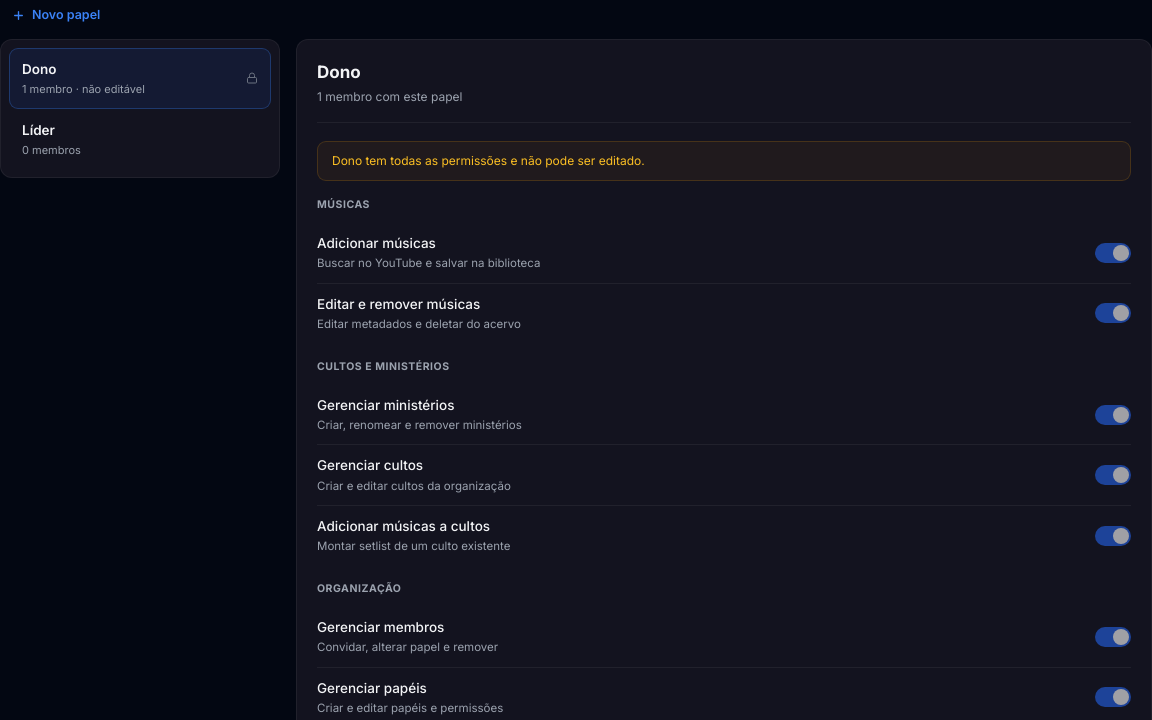
it: OrgRoles › erro no delete exibe mensagem inline
Click the text "Líder": (38, 130) x1=22 y1=122 x2=55 y2=138
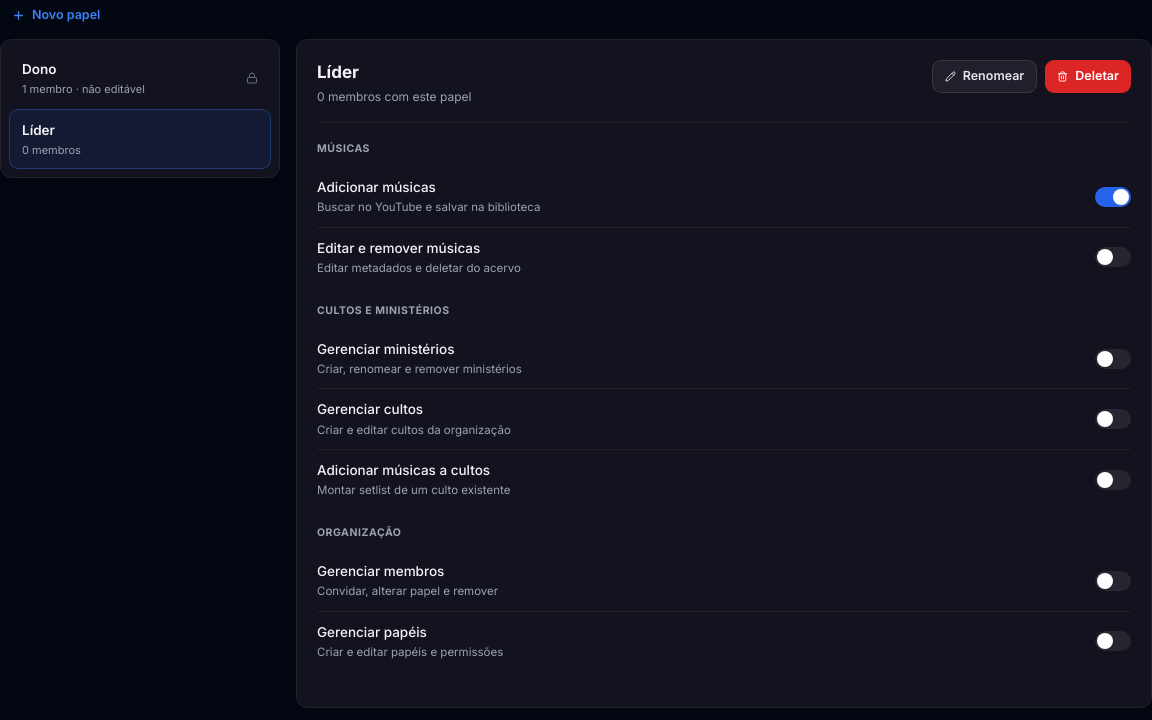
Expected: the button "Deletar" is shown
Click the button "Deletar": (1088, 76) x1=1045 y1=60 x2=1131 y2=93
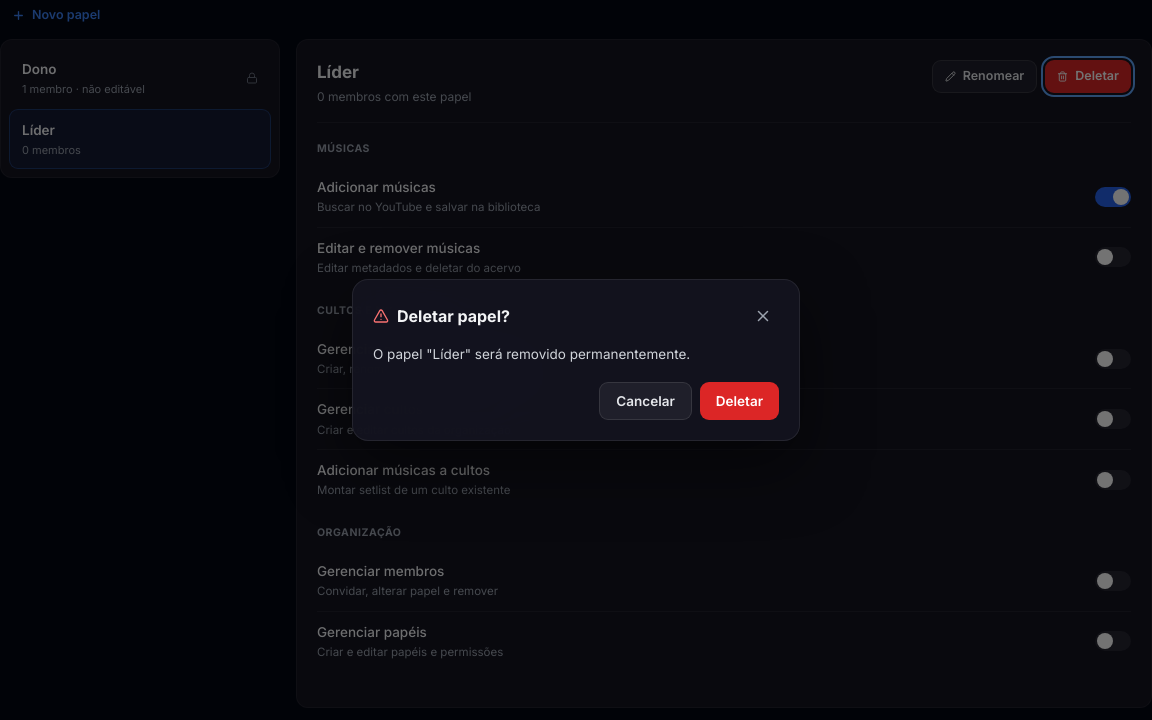
Expected: the heading "Deletar papel?" is shown, x1=373 y1=304 x2=510 y2=328
Click the button "Deletar": (739, 401) x1=700 y1=382 x2=779 y2=420
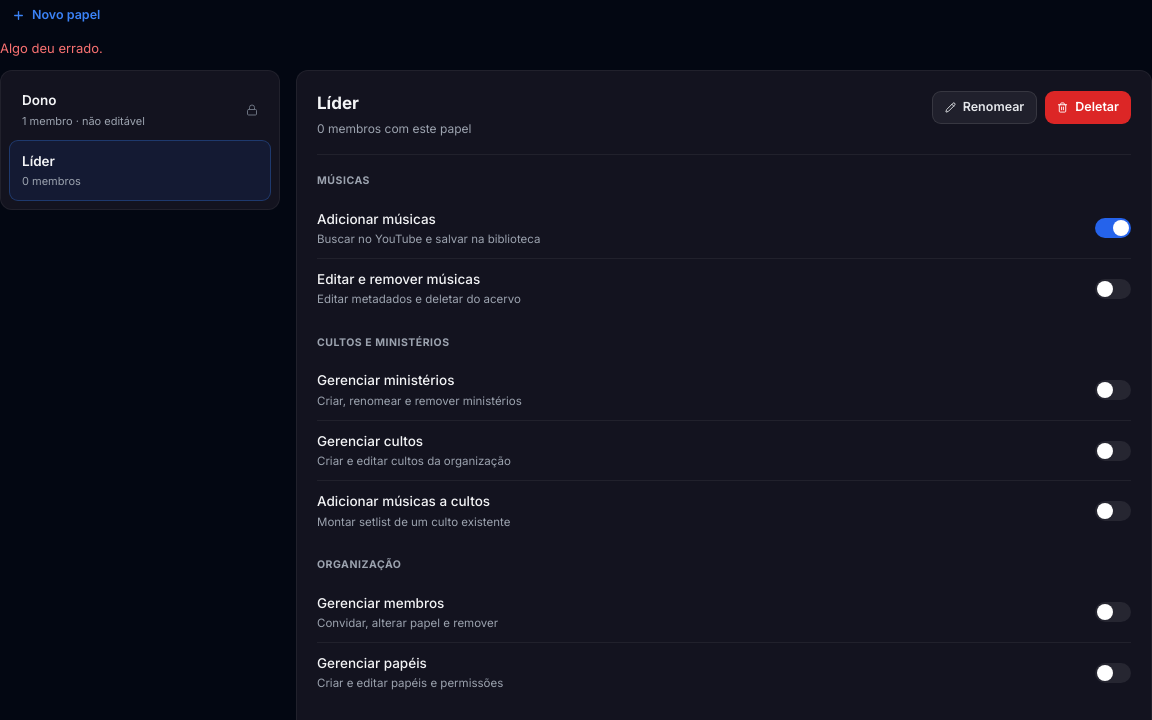
Expected: the text "Algo deu errado." is shown, x1=0 y1=40 x2=103 y2=56
